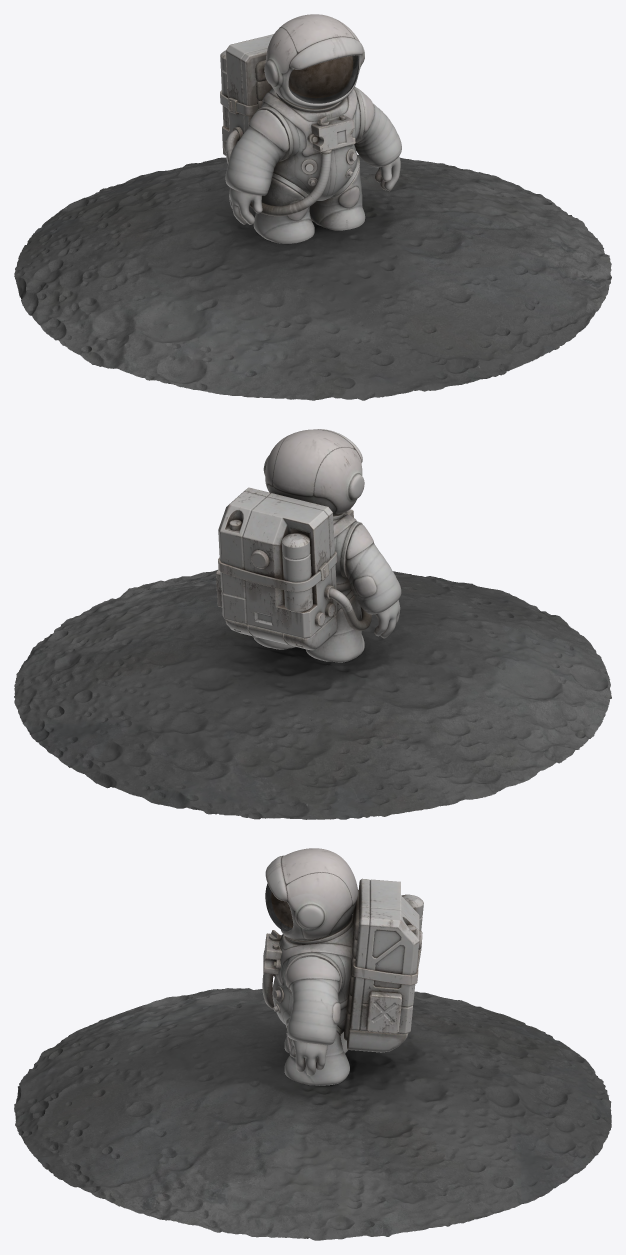
Rendered from little_mrastronaut-transformed.glb.
3 views of the same model, one above another, from view 1: azimuth 30°, elevation 25°; view 2: azimuth 150°, elevation 25°; view 3: azimuth 270°, elevation 25° (orthographic).
Visible parts, largest first — view 1: Box034_08 - Default_0, tyFlow007Low002_04 - Default_0, Object005_04 - Defaulth_0, Box032_14 - Default_0, Box033_02 - Default_0; view 2: Box034_08 - Default_0, Object005_04 - Defaulth_0, tyFlow007Low002_04 - Default_0; view 3: Box034_08 - Default_0, tyFlow007Low002_04 - Default_0, Object005_04 - Defaulth_0, Box032_14 - Default_0.
Boxes of the visible parts, x1,y1,x2,y2 form: Box034_08 - Default_0: (14, 155, 611, 400); tyFlow007Low002_04 - Default_0: (225, 14, 401, 243); Object005_04 - Defaulth_0: (220, 34, 355, 216); Box032_14 - Default_0: (288, 55, 358, 103); Box033_02 - Default_0: (289, 56, 352, 97); Box034_08 - Default_0: (14, 569, 611, 819); Object005_04 - Defaulth_0: (216, 487, 371, 650); tyFlow007Low002_04 - Default_0: (253, 429, 401, 662); Box034_08 - Default_0: (14, 988, 611, 1240); tyFlow007Low002_04 - Default_0: (265, 848, 358, 1085); Object005_04 - Defaulth_0: (262, 878, 423, 1052); Box032_14 - Default_0: (265, 883, 293, 931).
Size of the model in its own units: 0.2926 by 0.1421 by 0.2913.
Materials: 5 (4 with a texture image).
